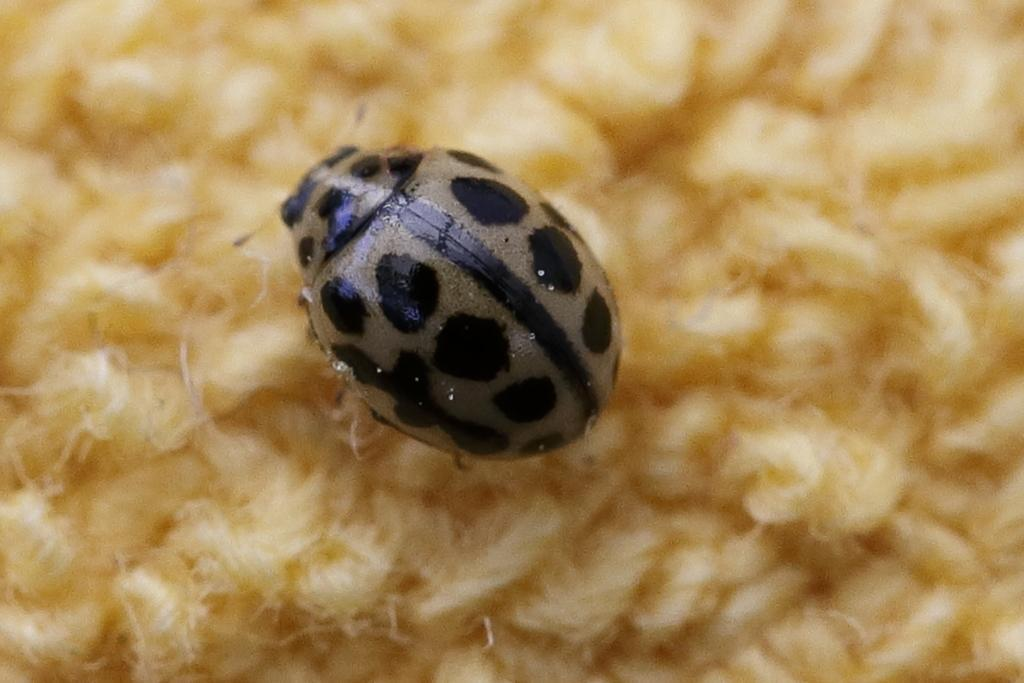ladybug: (233, 97, 627, 477)
